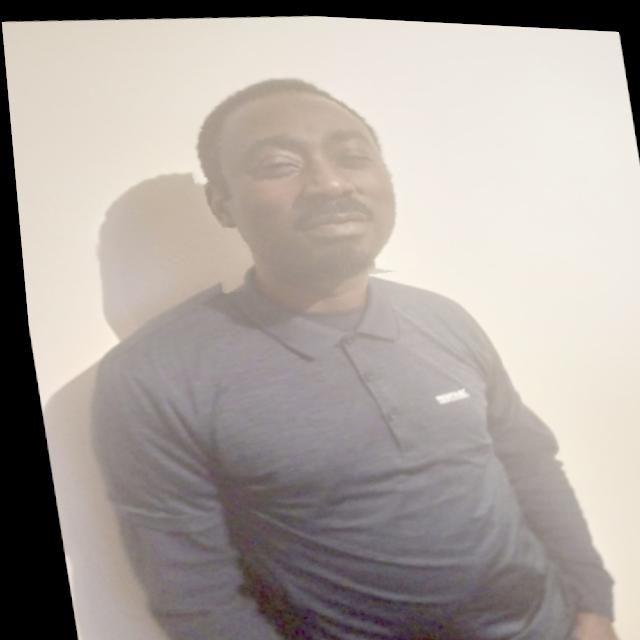sad: (172, 68, 416, 295)
